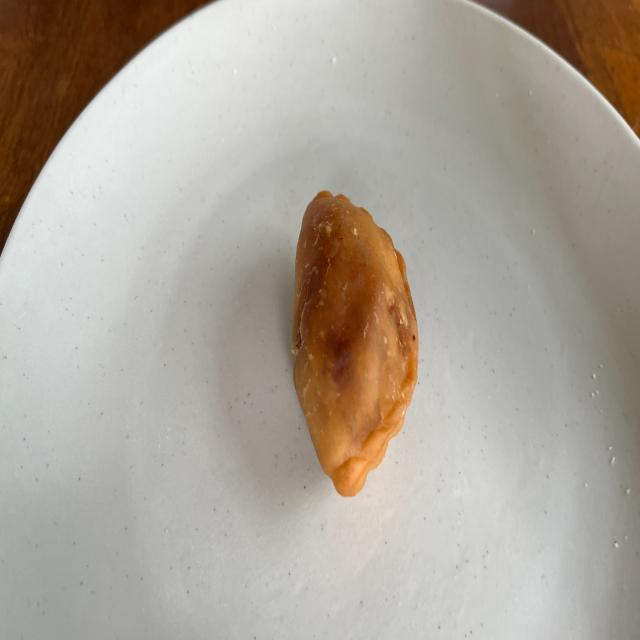karipap: (292, 191, 419, 496)
